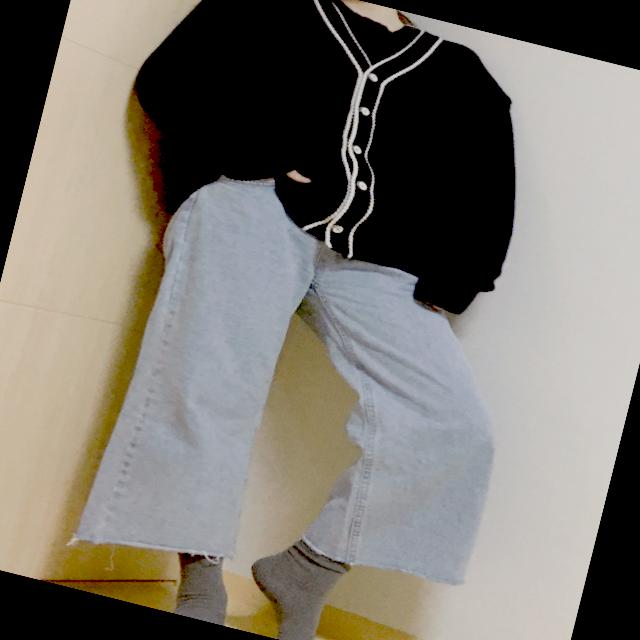cardigan: (96, 0, 559, 325)
denimpants: (61, 150, 550, 634)
